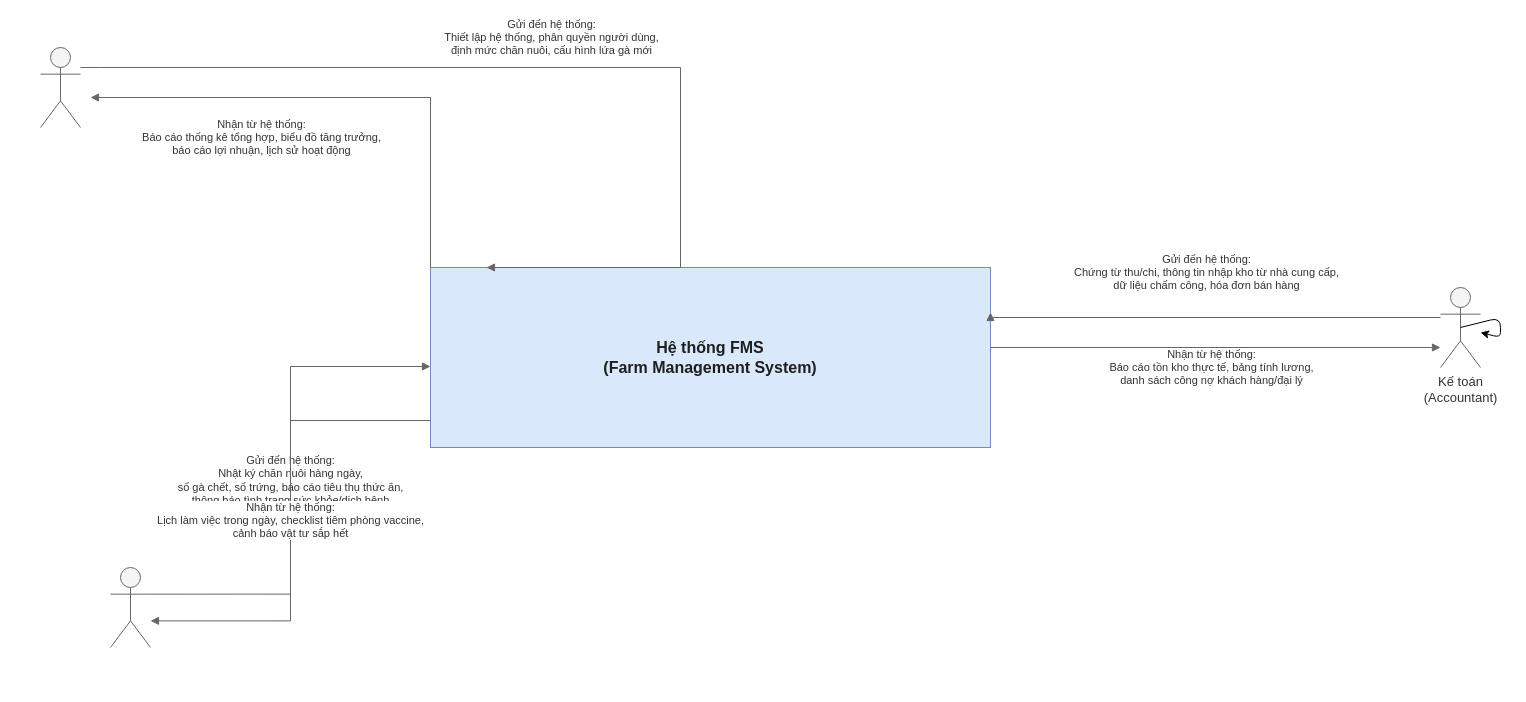
The diagram is 1526 pixels wide and 702 high, and some of its shapes have lost their labels. The box of each missing label's shape, as (x1, y1, x2, y2) in pixels:
Chủ trại (Owner/Admin): (40, 46, 80, 128)
Nhân viên chăn nuôi (Worker): (110, 566, 150, 648)
